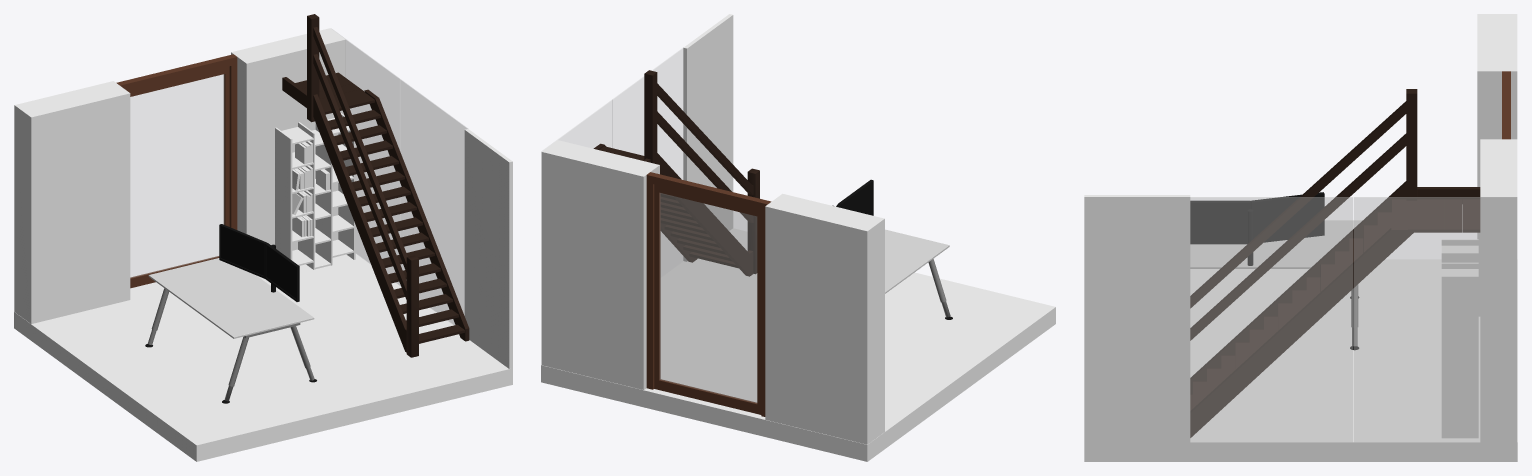
The model's file is office.gltf.
The picture shows the model from 3 angles, left to right: view 1: azimuth 30°, elevation 25°; view 2: azimuth 150°, elevation 25°; view 3: azimuth 270°, elevation 25°; orthographic projection. The views are drawn at different scales.
Visible parts, largest first — view 1: Cube, Cube.016, Cube.018, Cube.014, Cube.015, Cube.001, Cube.002, Cube.011, Cube.009, Cube.012, Cube.008, Cube.013 (+13 smaller); view 2: Cube, Cube.016, Cube.014, Cube.018, Cube.015, Cube.001, Cube.013, Cube.017, Cube.011, Cube.012, Cube.002, Cube.008 (+4 smaller); view 3: Cube, Cube.001, Cube.009, Cube.015, Cube.014, Cube.022, Cube.010, Cube.012, Cube.016, Cube.011, Cube.002, Cube.008 (+7 smaller).
Boxes of the visible parts, <box> form: Cube: <box>14,253,512,461</box>; Cube.016: <box>14,81,130,323</box>; Cube.018: <box>130,74,224,277</box>; Cube.014: <box>231,28,345,252</box>; Cube.015: <box>464,129,512,368</box>; Cube.001: <box>399,79,467,324</box>; Cube.002: <box>148,258,314,338</box>; Cube.011: <box>322,94,464,343</box>; Cube.009: <box>331,28,399,284</box>; Cube.012: <box>313,27,407,299</box>; Cube.008: <box>313,94,406,352</box>; Cube.013: <box>116,54,237,229</box>; Cube: <box>541,228,1055,461</box>; Cube.016: <box>765,193,884,444</box>; Cube.014: <box>541,140,659,389</box>; Cube.018: <box>659,193,756,403</box>; Cube.015: <box>683,14,733,261</box>; Cube.001: <box>612,48,683,276</box>; Cube.013: <box>646,172,771,416</box>; Cube.017: <box>654,184,761,414</box>; Cube.011: <box>599,146,738,268</box>; Cube.012: <box>657,83,753,222</box>; Cube.002: <box>885,229,949,293</box>; Cube.008: <box>657,153,753,276</box>; Cube: <box>1084,259,1517,461</box>; Cube.001: <box>1190,197,1352,442</box>; Cube.009: <box>1354,197,1515,442</box>; Cube.015: <box>1084,195,1190,442</box>; Cube.014: <box>1480,139,1517,442</box>; Cube.022: <box>1441,276,1478,438</box>; Cube.010: <box>1190,227,1417,437</box>; Cube.012: <box>1190,101,1406,340</box>; Cube.016: <box>1477,14,1517,316</box>; Cube.011: <box>1190,199,1408,410</box>; Cube.002: <box>1190,220,1362,268</box>; Cube.008: <box>1190,181,1406,394</box>.
Bounding box in the file's own units: 4 × 3.41 × 4.
